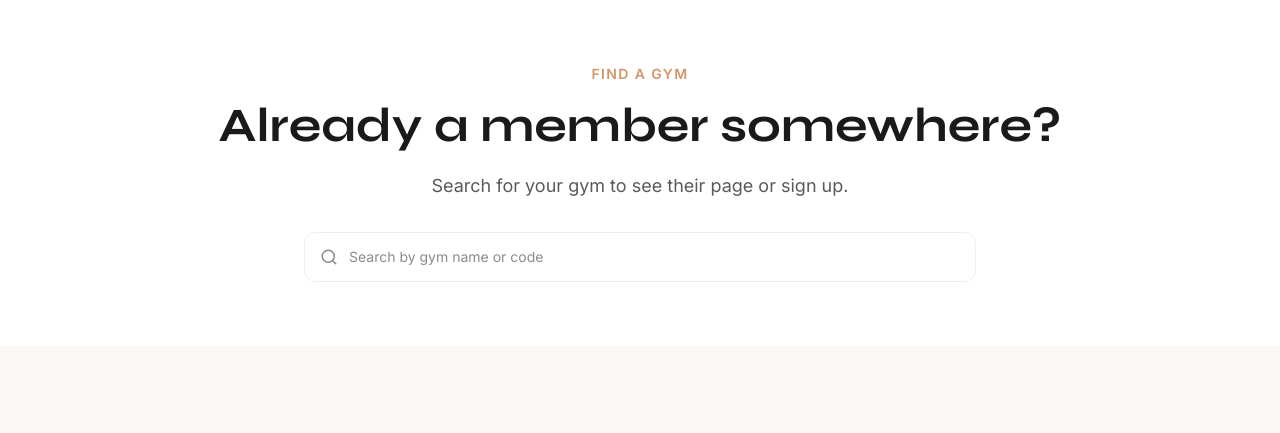
Scenario: GymFinderSection › shows empty state when no gyms are found
The image size is (1280, 433).
Type "xy" into the field with placeholder "Search by gym name or code" at x=640, y=257, box [304, 232, 976, 282]
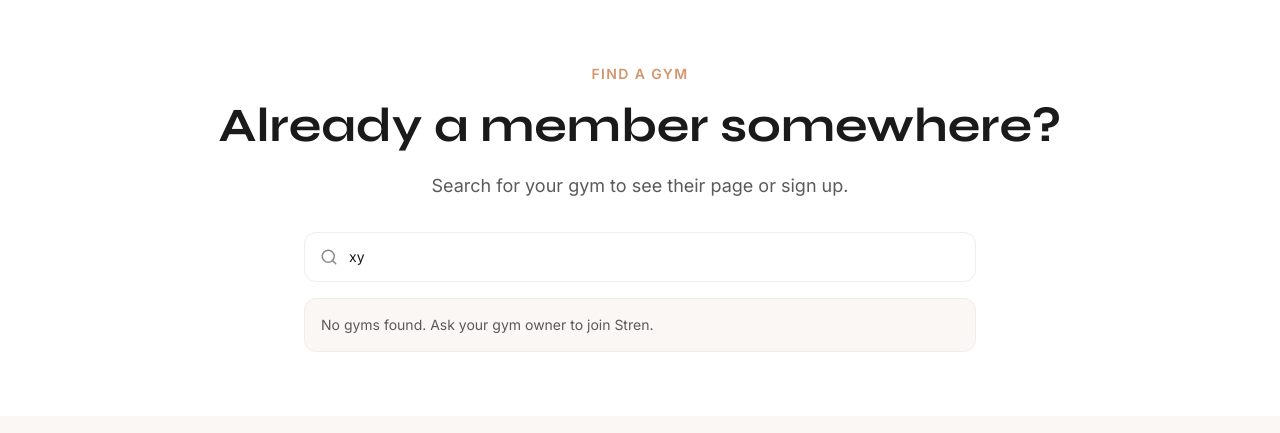
Expected: the text "No gyms found. Ask your gym owner to join Stren." is shown, [304, 298, 976, 352]
